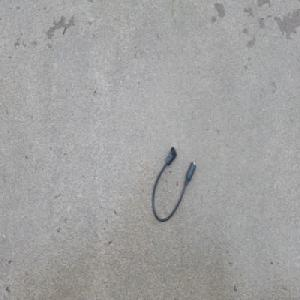Wire: (152, 144, 197, 222)
